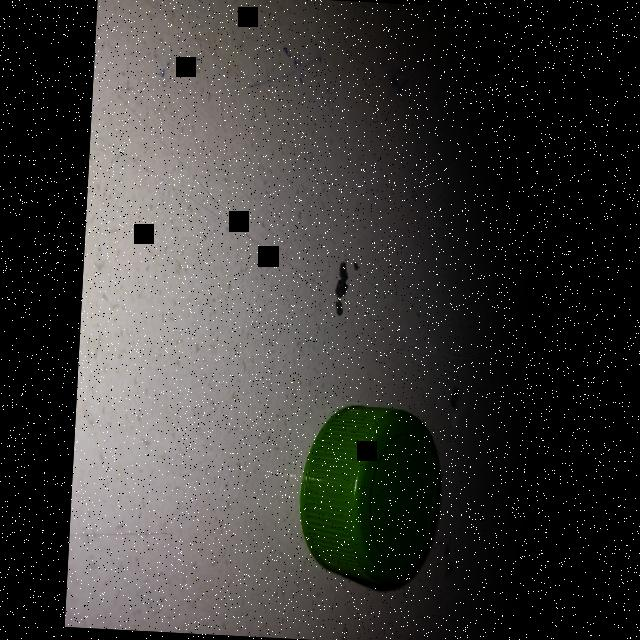plastic_bottle_cap: (294, 402, 446, 588)
